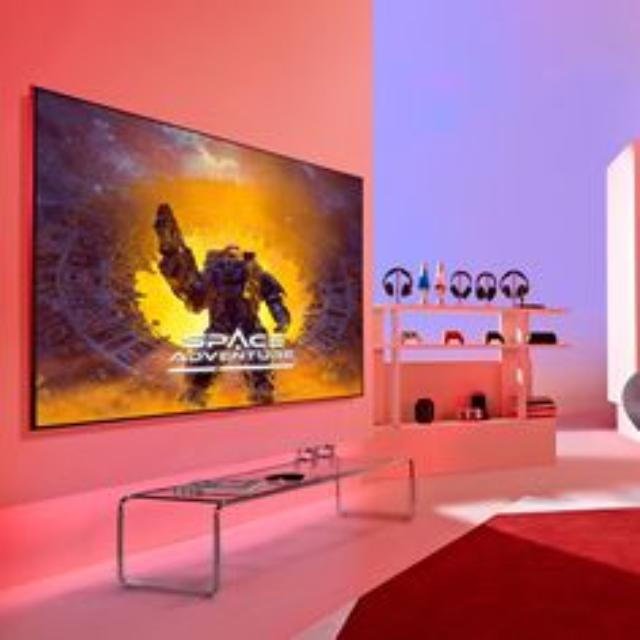Flat-Panel-TV: (30, 89, 361, 434)
